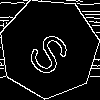S: (24, 23, 80, 80)
